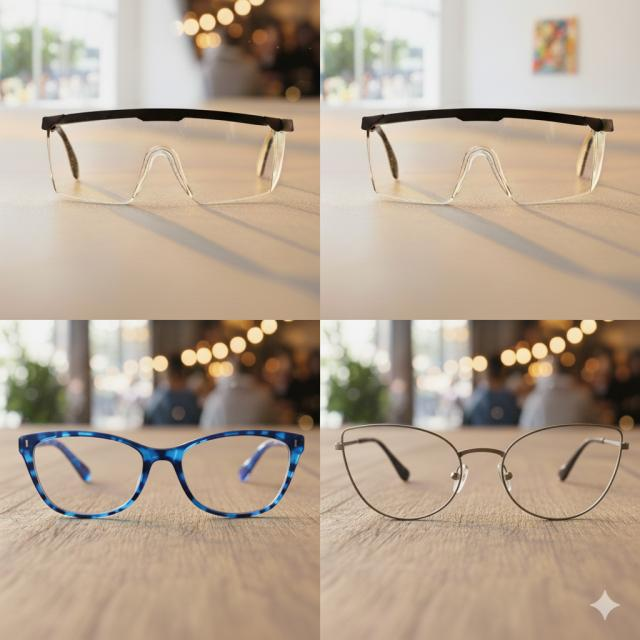oculos-epi: (350, 106, 622, 215), (33, 108, 301, 214)
sem_oculos: (335, 424, 629, 520), (19, 429, 304, 518)
